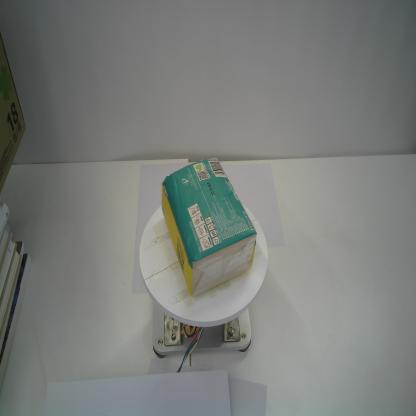Tissue: (160, 156, 258, 300)
